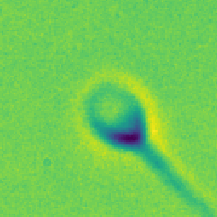normal: (136, 139, 217, 217)
